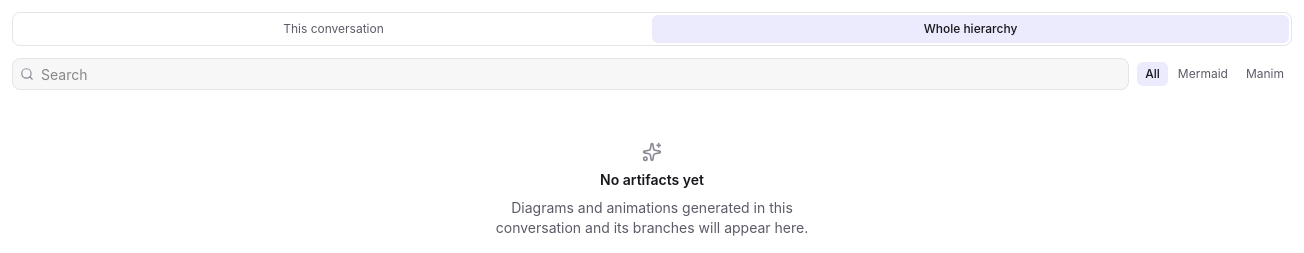
Artifacts tab › has a useful empty state, an error state with retry, and filters
Expected: the heading "No artifacts yet" is shown, [600, 170, 704, 190]
Expected: the text "Diagrams and animations generated in" is shown, [511, 199, 769, 216]
Click the button "Mermaid". click: (1203,74)
box: [1170, 62, 1236, 86]
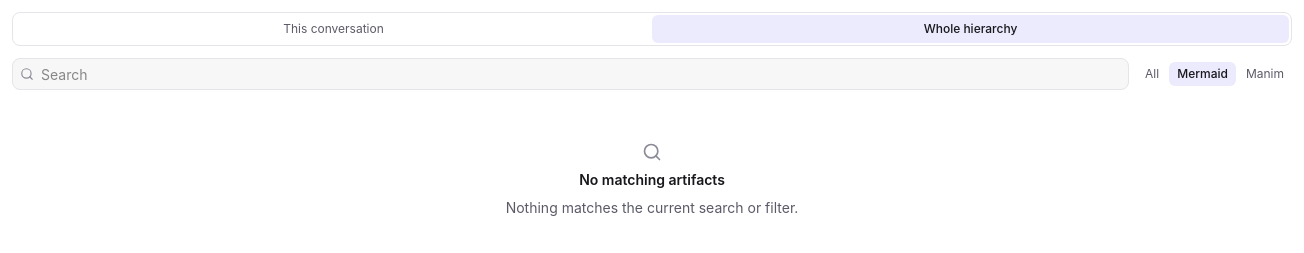
Result: the heading "No matching artifacts" is shown at [579, 170, 725, 190]
